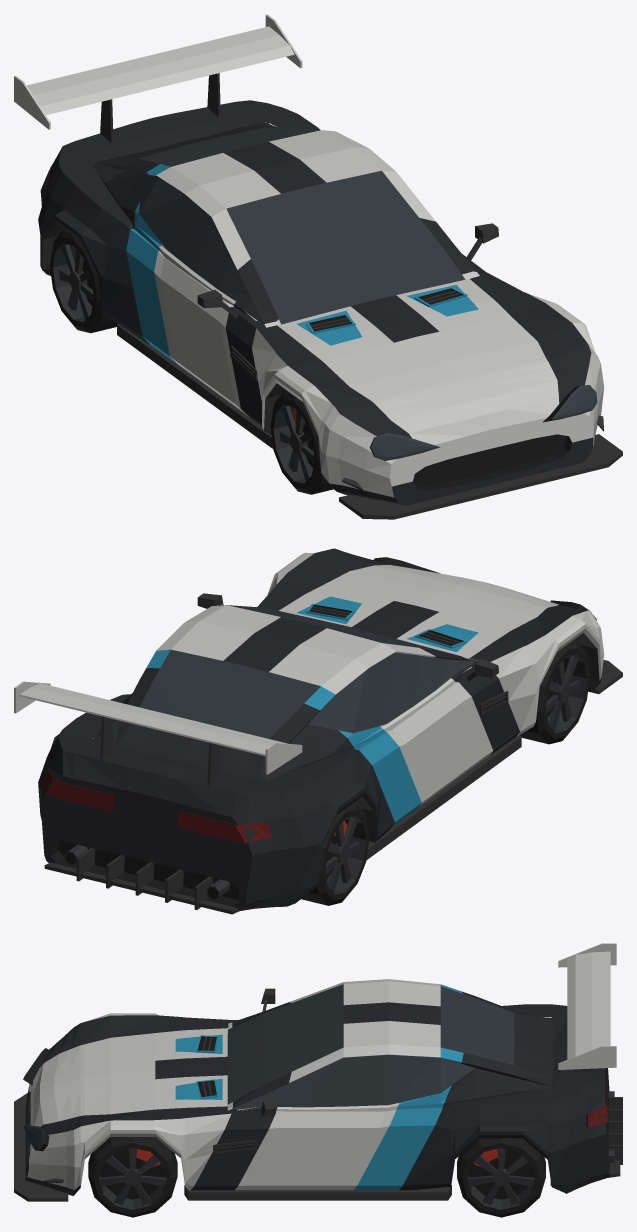
3 renders of one model, top to bottom at view 1: azimuth 30°, elevation 25°; view 2: azimuth 150°, elevation 25°; view 3: azimuth 270°, elevation 25°, orthographic. The views are drawn at different scales.
Parts seen in each view (by area): view 1: body, tyre-rr, tyre-fr; view 2: body, tyre-fr, tyre-rr; view 3: body, tyre-fl, tyre-rl.
Part boxes in pixels (left/top/right/bottom): body: left=14, top=14, right=622, bottom=519; tyre-rr: left=49, top=229, right=117, bottom=333; tyre-fr: left=270, top=391, right=333, bottom=494; body: left=14, top=548, right=622, bottom=914; tyre-fr: left=519, top=640, right=589, bottom=744; tyre-rr: left=301, top=802, right=369, bottom=905; body: left=14, top=943, right=622, bottom=1201; tyre-fl: left=88, top=1137, right=177, bottom=1217; tyre-rl: left=457, top=1138, right=545, bottom=1217.
Bounding box in the file's own units: 2.2 × 1.44 × 4.71.
